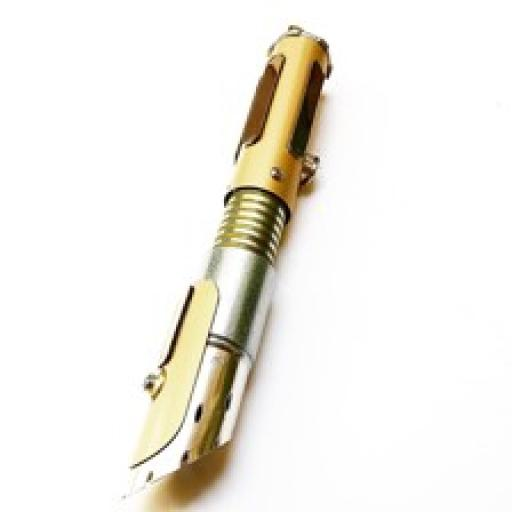lightsaber: (121, 19, 333, 503)
